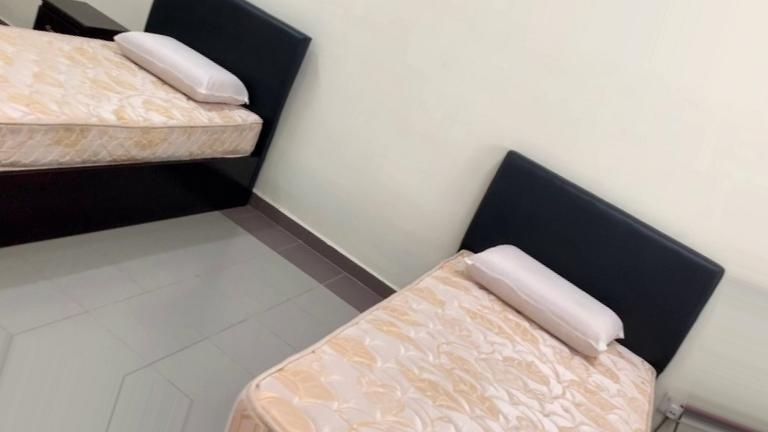bed: (236, 173, 750, 432), (0, 0, 331, 236)
table: (33, 4, 135, 34)
